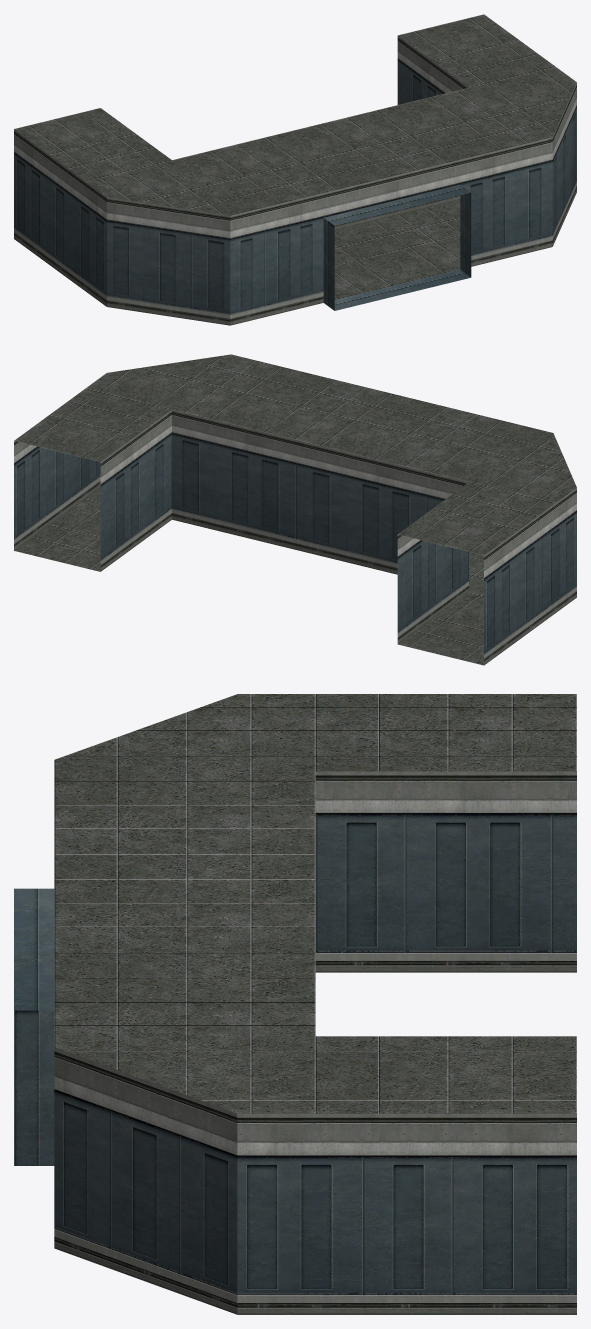
The model's file is thm_corl_skyskraper_s01_r1_mesh_foyer0.fbx.
The picture shows the model from 3 angles, top to bottom: view 1: azimuth 30°, elevation 25°; view 2: azimuth 150°, elevation 25°; view 3: azimuth 270°, elevation 25°; orthographic projection. The views are drawn at different scales.
Parts seen in each view (by area): view 1: mesh_node; view 2: mesh_node; view 3: mesh_node.
Part boxes in pixels (left/top/right/bottom): mesh_node: left=14, top=14, right=576, bottom=325; mesh_node: left=14, top=354, right=576, bottom=665; mesh_node: left=14, top=694, right=576, bottom=1314.
Size of the model in its own units: 19 by 4.25 by 10.77.
